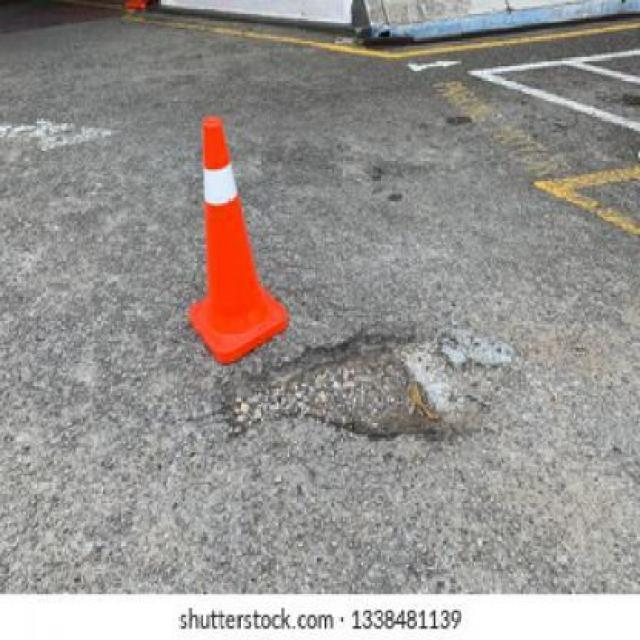Buraco: (208, 316, 537, 450)
